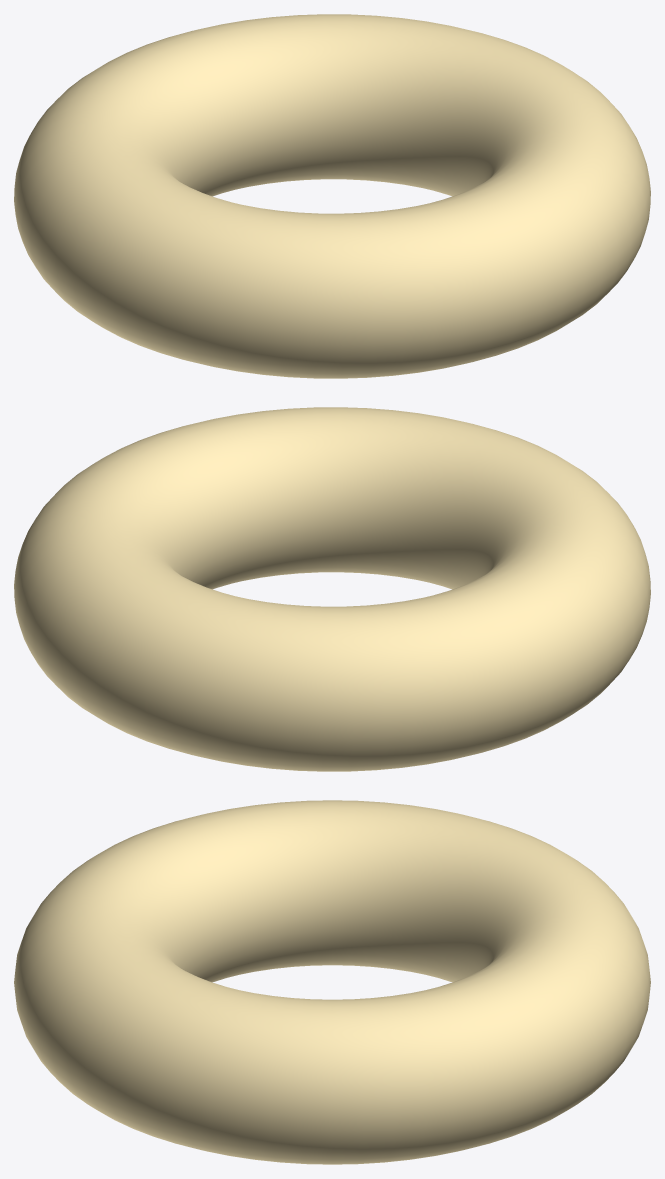
The model's file is genesis_torus.gltf.
The picture shows the model from 3 angles, top to bottom: view 1: azimuth 30°, elevation 25°; view 2: azimuth 150°, elevation 25°; view 3: azimuth 270°, elevation 25°; orthographic projection.
Visible parts, largest first — view 1: GenesisTorus; view 2: GenesisTorus; view 3: GenesisTorus.
Boxes of the visible parts, bbox=[...] form: GenesisTorus: bbox=[14, 14, 650, 378]; GenesisTorus: bbox=[14, 407, 650, 771]; GenesisTorus: bbox=[14, 800, 650, 1164].
Bounding box in the file's own units: 2.7 × 0.7 × 2.7.
